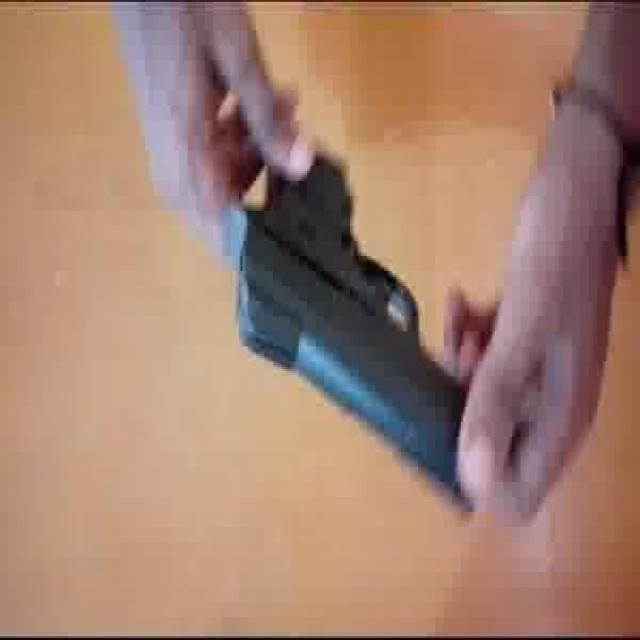weapon: (208, 76, 482, 508)
